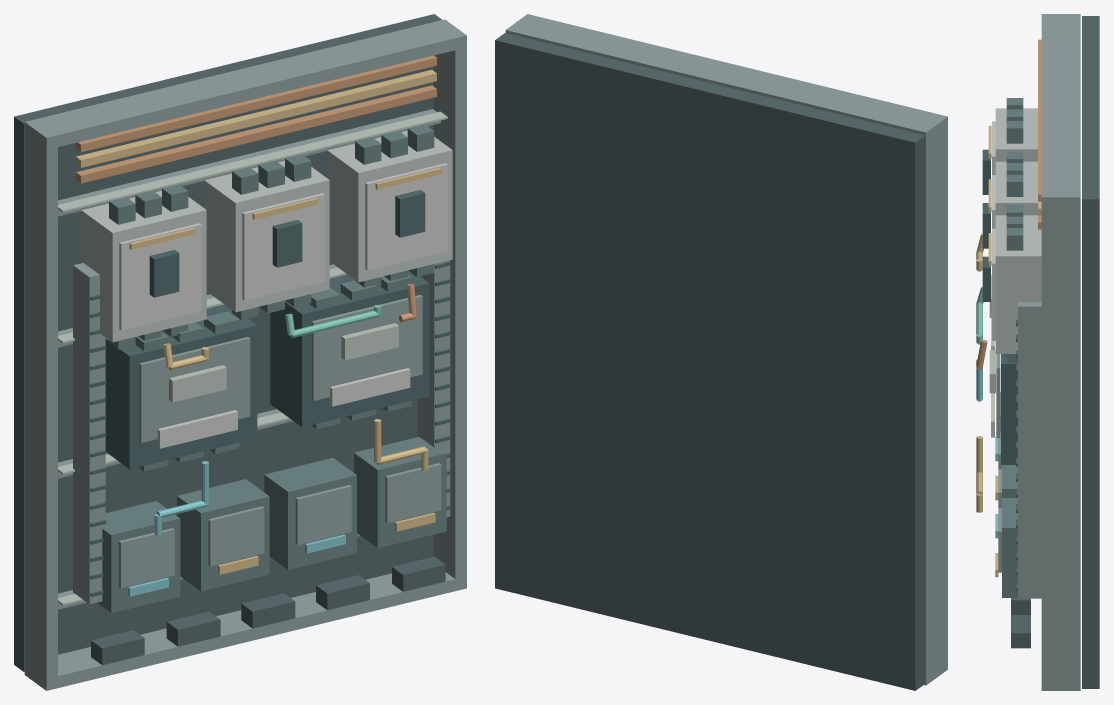
The model's file is conceptual-lv-panel.glb.
3 views of the same model, side by side, from view 1: azimuth 30°, elevation 25°; view 2: azimuth 150°, elevation 25°; view 3: azimuth 270°, elevation 25° (orthographic). The views are drawn at different scales.
Visible parts, largest first — view 1: ENCLOSURE_BACKPLANE_001, ENCLOSURE_VERTICAL_FRAME_002, ENCLOSURE_HORIZONTAL_FRAME_005, ENCLOSURE_VERTICAL_FRAME_003, CABLE_DUCT_079, CONTACTOR_KM2_057, CONTACTOR_KM1_047, ENCLOSURE_HORIZONTAL_FRAME_004, BREAKER_QF3_037, BREAKER_QF2_027, BREAKER_QF1_017, CONTACTOR_FACE_048 (+31 smaller); view 2: ENCLOSURE_BACKPLANE_001, ENCLOSURE_VERTICAL_FRAME_002, ENCLOSURE_HORIZONTAL_FRAME_005; view 3: ENCLOSURE_VERTICAL_FRAME_003, ENCLOSURE_BACKPLANE_001, ENCLOSURE_HORIZONTAL_FRAME_005, CABLE_DUCT_098, BREAKER_QF3_037, CONTACTOR_KM2_057, BREAKER_QF2_027, BREAKER_QF1_017, AUX_RELAY_K4_076, EXIT_GLAND_5_135, COPPER_BUS_BAR_016, AUX_RELAY_K3_073 (+20 smaller).
Boxes of the visible parts, x1,y1,x2,y2 form: ENCLOSURE_BACKPLANE_001: (14,14,441,671); ENCLOSURE_VERTICAL_FRAME_002: (24,126,57,678); ENCLOSURE_HORIZONTAL_FRAME_005: (24,19,466,148); ENCLOSURE_VERTICAL_FRAME_003: (433,38,466,587); CABLE_DUCT_079: (73,263,105,604); CONTACTOR_KM2_057: (270,270,429,427); CONTACTOR_KM1_047: (105,304,257,469); ENCLOSURE_HORIZONTAL_FRAME_004: (24,572,466,690); BREAKER_QF3_037: (327,130,452,282); BREAKER_QF2_027: (204,160,329,312); BREAKER_QF1_017: (81,190,206,342); CONTACTOR_FACE_048: (139,337,250,442); ENCLOSURE_BACKPLANE_001: (495,33,925,690); ENCLOSURE_VERTICAL_FRAME_002: (925,120,947,682); ENCLOSURE_HORIZONTAL_FRAME_005: (505,14,947,141); ENCLOSURE_VERTICAL_FRAME_003: (1041,200,1080,688); ENCLOSURE_BACKPLANE_001: (1082,16,1099,688); ENCLOSURE_HORIZONTAL_FRAME_005: (1041,14,1080,207); CABLE_DUCT_098: (1018,302,1041,598); BREAKER_QF3_037: (995,215,1041,353); CONTACTOR_KM2_057: (1001,354,1017,464); BREAKER_QF2_027: (995,161,1037,215); BREAKER_QF1_017: (995,108,1037,161); AUX_RELAY_K4_076: (1002,498,1017,597); EXIT_GLAND_5_135: (1011,615,1030,648); COPPER_BUS_BAR_016: (1038,39,1041,201); AUX_RELAY_K3_073: (1002,465,1017,497).
Bounding box in the file's own units: 3.66 × 4.6 × 1.04.
